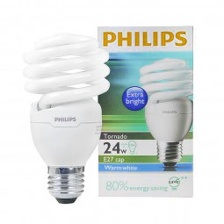book: (91, 21, 197, 201)
light_bulb: (17, 27, 114, 205)
